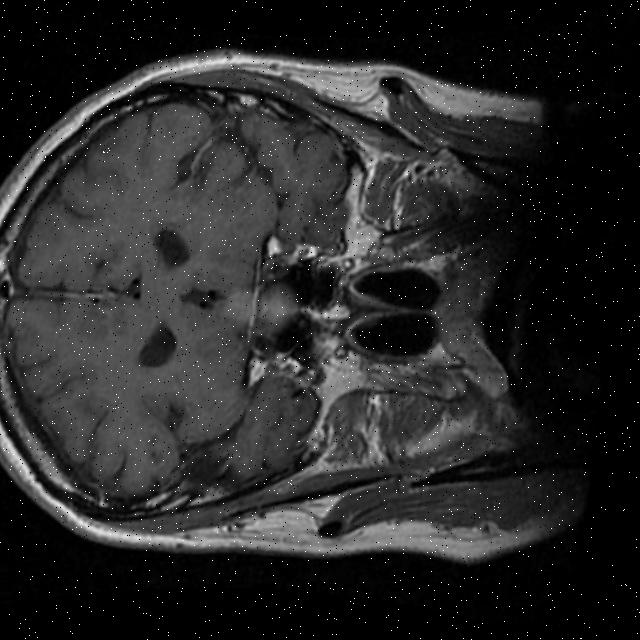Pituitary: (216, 279, 301, 339)
